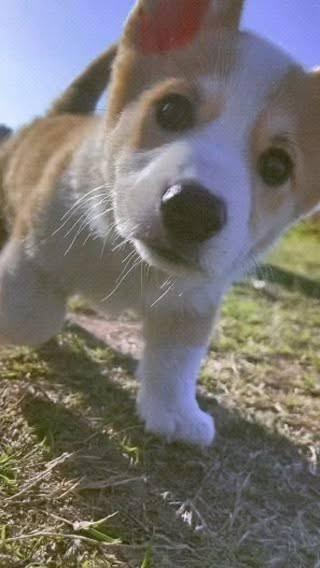puppy-dog: (0, 0, 320, 448)
